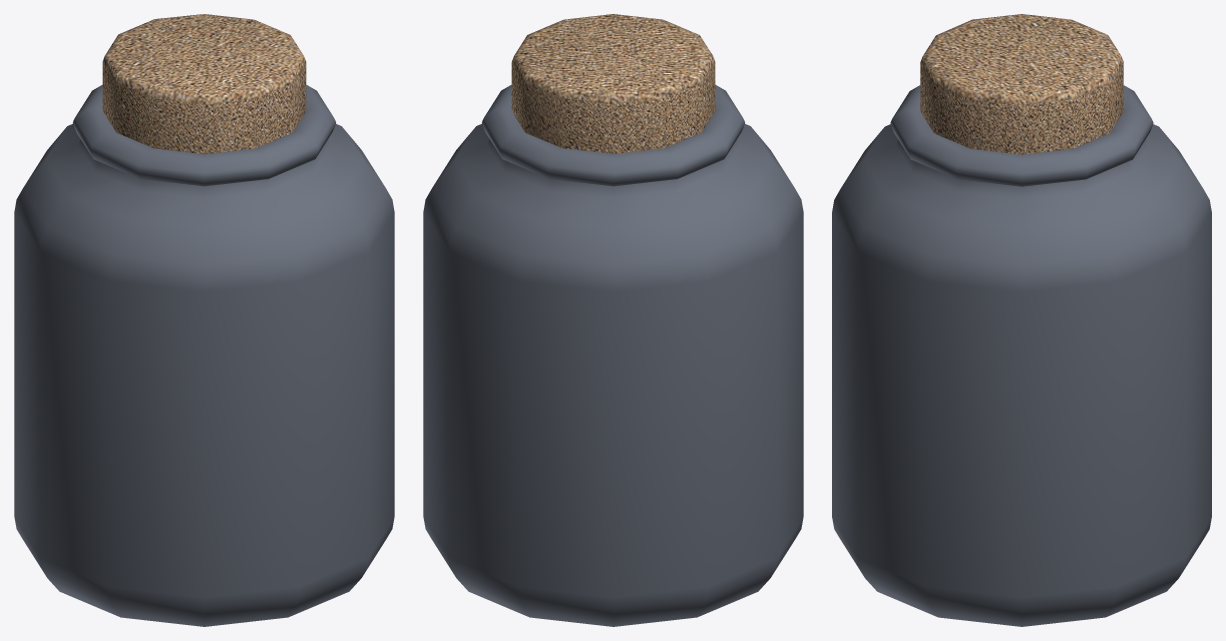
The model's file is GlasPotion_Mesh.fbx.
3 renders of one model, left to right at view 1: azimuth 30°, elevation 25°; view 2: azimuth 150°, elevation 25°; view 3: azimuth 270°, elevation 25°, orthographic.
Visible parts, largest first — view 1: Glas_Potion, Kork; view 2: Glas_Potion, Kork; view 3: Glas_Potion, Kork.
Part boxes in pixels (x1=…): Glas_Potion: x1=14, y1=85, x2=394, y2=626; Kork: x1=102, y1=14, x2=306, y2=154; Glas_Potion: x1=423, y1=85, x2=803, y2=626; Kork: x1=511, y1=14, x2=715, y2=153; Glas_Potion: x1=832, y1=85, x2=1211, y2=626; Kork: x1=920, y1=14, x2=1123, y2=154.
Size of the model in its own units: 9.07 by 13.24 by 9.07.
